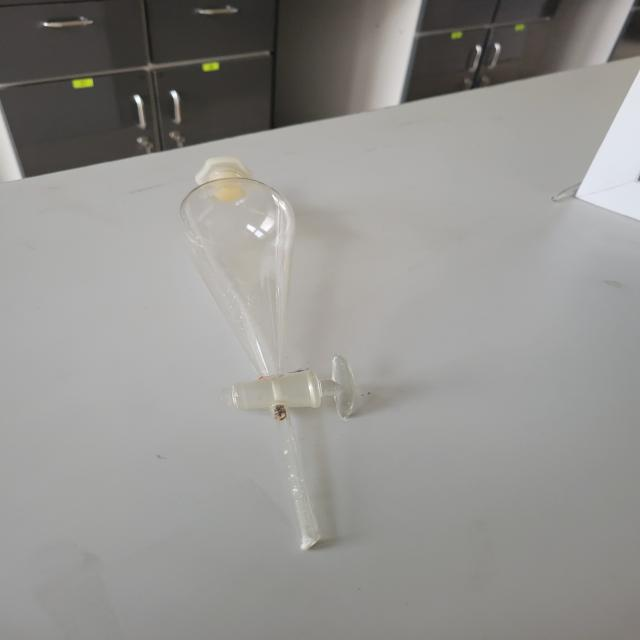Separating_Funnel: (132, 135, 414, 578)
